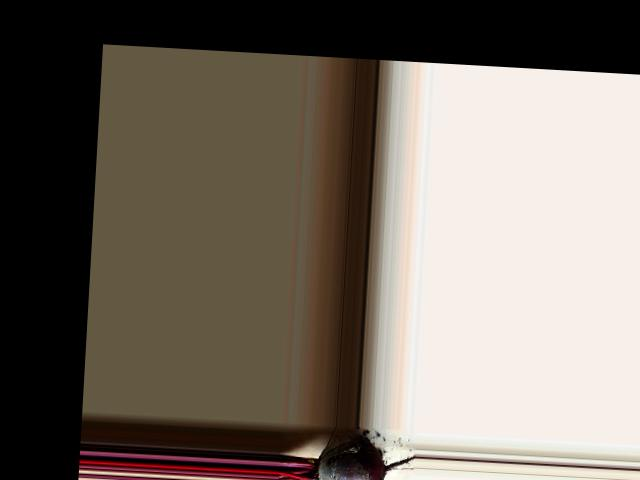beet: (277, 431, 417, 480)
